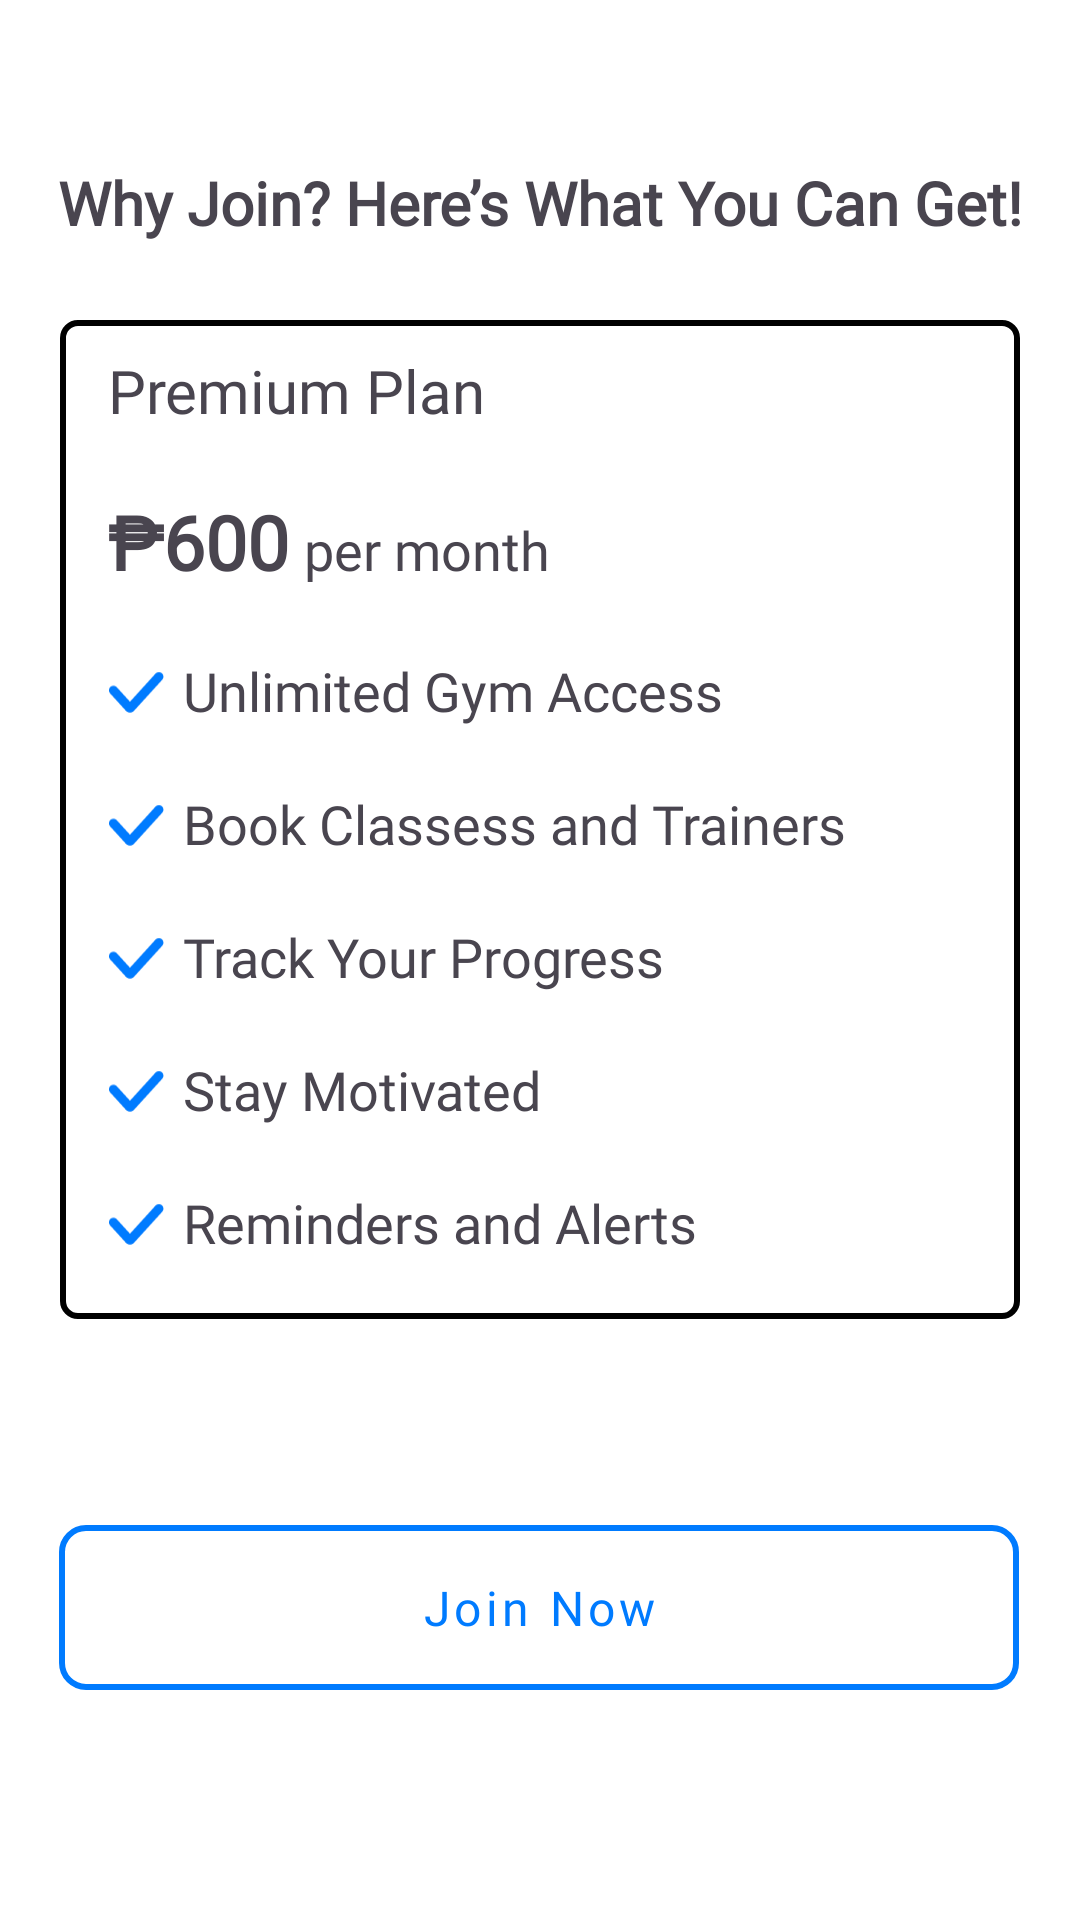

Named icons in this screenshot (1080px x 1920px) and their bounding boxes, (x1, y1, x2, y2):
Check: (109, 672, 164, 713), (109, 805, 164, 846), (109, 938, 164, 979), (109, 1071, 164, 1112), (109, 1204, 164, 1245)
